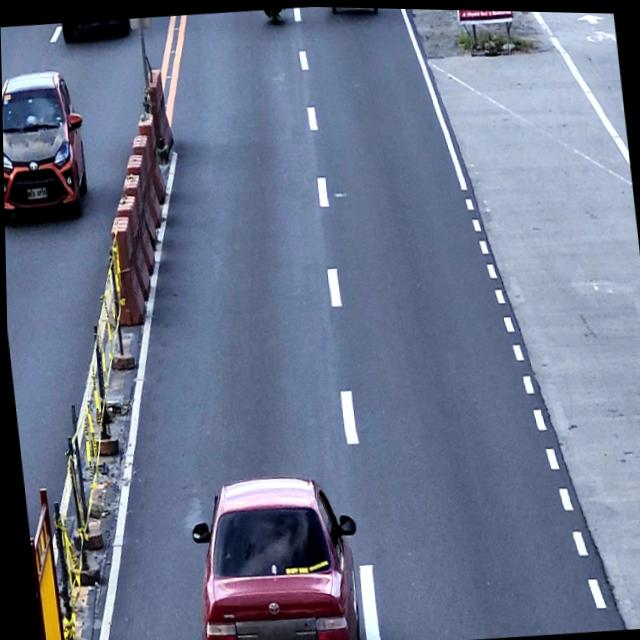Car: (181, 467, 365, 640), (1, 66, 91, 227)
License-Plate: (24, 183, 47, 201)
